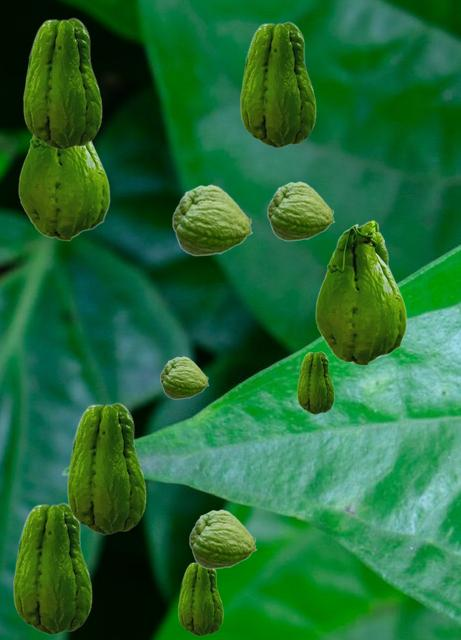sayote: (315, 220, 406, 365), (13, 502, 91, 634), (23, 17, 101, 149), (67, 402, 145, 534), (18, 136, 109, 240), (240, 21, 315, 147), (172, 184, 252, 255), (189, 509, 256, 568), (267, 181, 334, 240), (178, 562, 222, 635), (297, 351, 333, 413), (160, 356, 208, 398)
